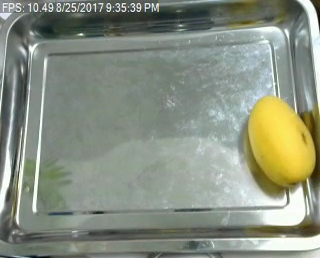Mango: (243, 92, 318, 185)
